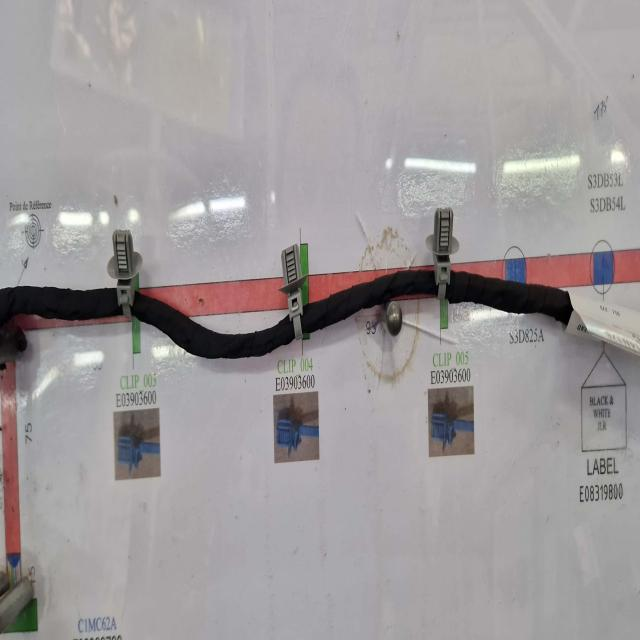Clip: (108, 228, 143, 318), (427, 209, 459, 301), (279, 246, 307, 341)
Info: (564, 288, 640, 359)
MHEV_N11_Cable: (133, 291, 295, 359), (304, 266, 441, 332), (446, 270, 573, 327), (0, 296, 125, 339)
